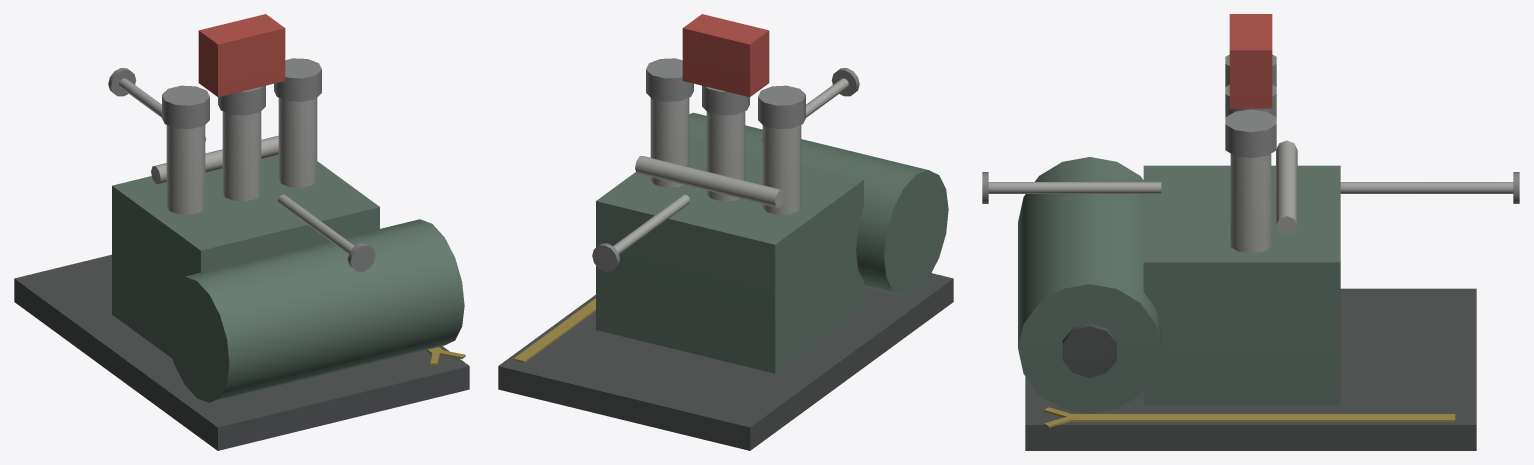
Rendered from flCharge_steel.glb.
3 renders of one model, left to right at view 1: azimuth 30°, elevation 25°; view 2: azimuth 150°, elevation 25°; view 3: azimuth 270°, elevation 25°, orthographic. The views are drawn at different scales.
Visible parts, largest first — view 1: flCharge_steel; view 2: flCharge_steel; view 3: flCharge_steel.
Part boxes in pixels (x1,y1,x2,y2): flCharge_steel: (14,14,469,450); flCharge_steel: (498,14,953,450); flCharge_steel: (982,14,1519,450).
Bounding box in the file's own units: 0.9227 × 1.08 × 1.5.
